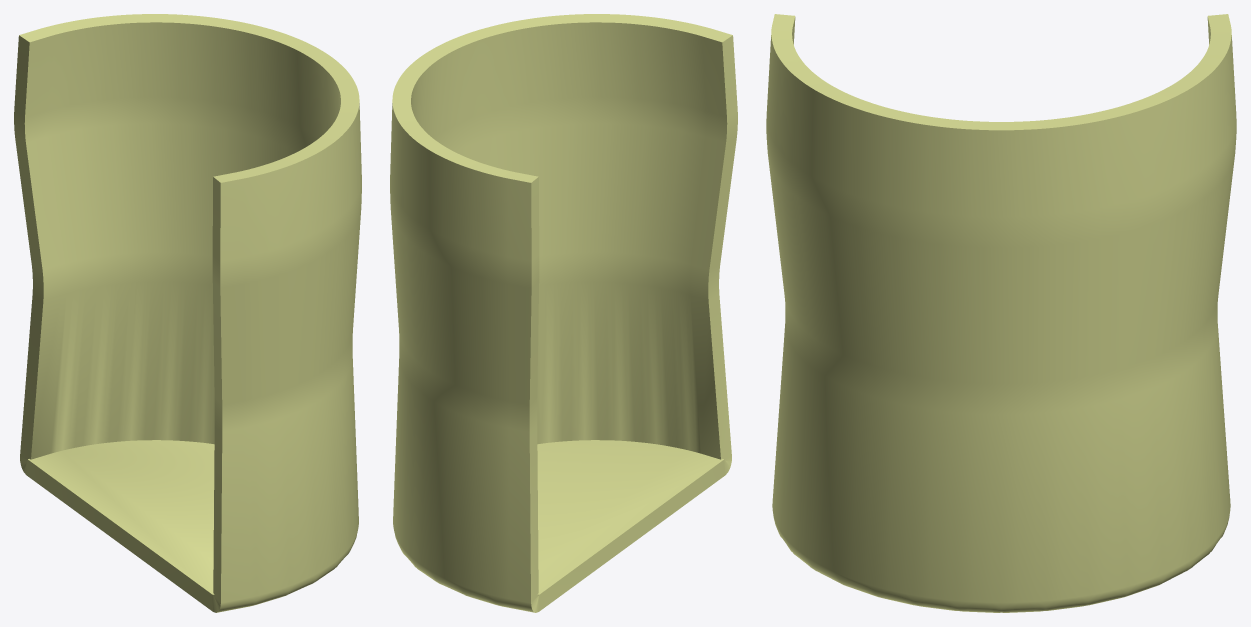
Rendered from toothebrush2akagobelet.fbx.
The picture shows the model from 3 angles, left to right: view 1: azimuth 30°, elevation 25°; view 2: azimuth 150°, elevation 25°; view 3: azimuth 270°, elevation 25°; orthographic projection. The views are drawn at different scales.
Parts seen in each view (by area): view 1: Cylinder; view 2: Cylinder; view 3: Cylinder.
Part boxes in pixels (<box>): Cylinder: <box>14,14,361,612</box>; Cylinder: <box>390,14,737,612</box>; Cylinder: <box>766,14,1236,612</box>.
Bounding box in the file's own units: 122 × 233 × 203.
